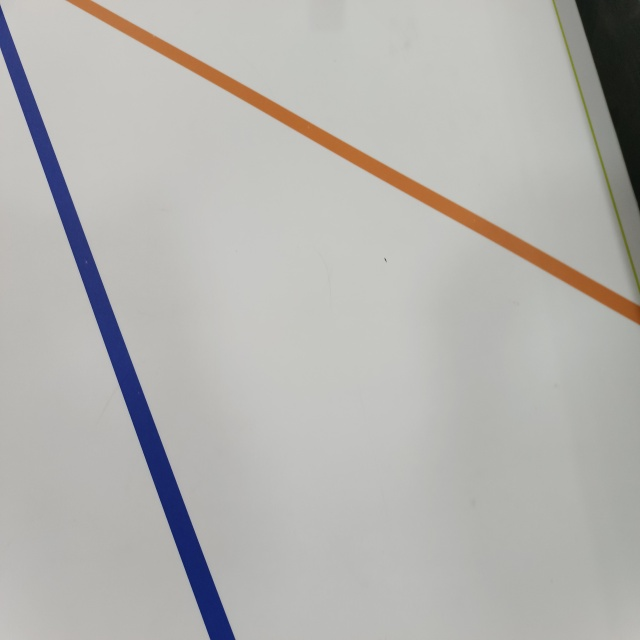blue line: (0, 5, 240, 636)
orange line: (56, 1, 640, 330)
